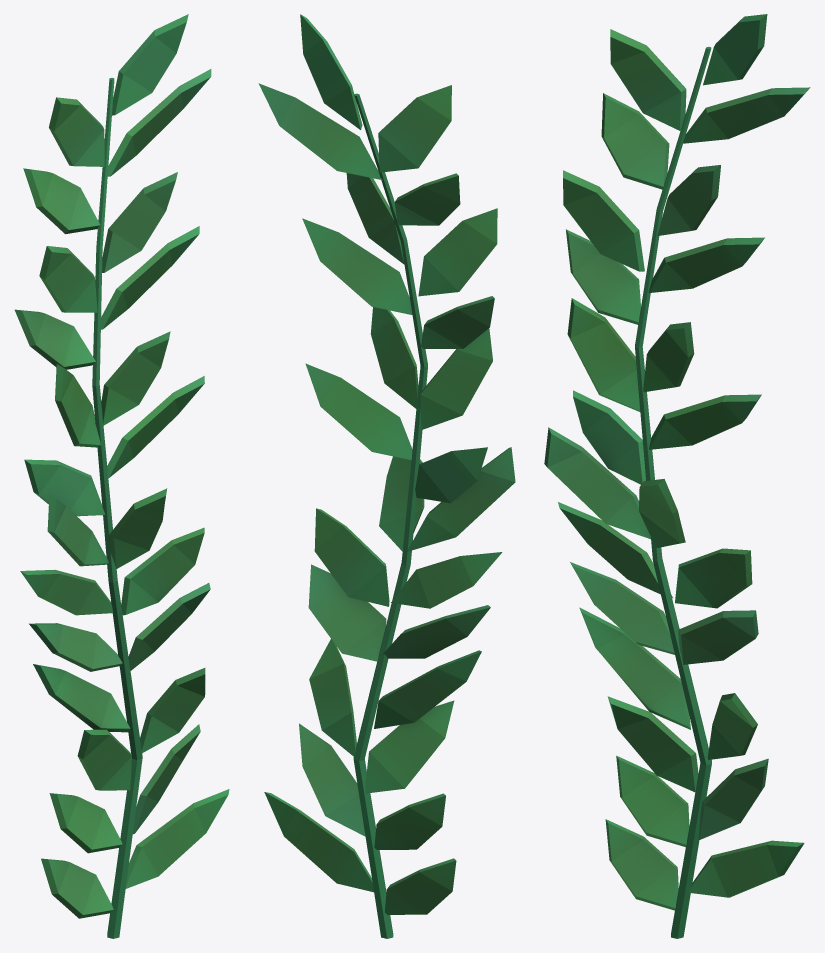
File: Kelp.glb
The picture shows the model from 3 angles, left to right: view 1: azimuth 30°, elevation 25°; view 2: azimuth 150°, elevation 25°; view 3: azimuth 330°, elevation 25°; orthographic projection. The views are drawn at different scales.
Parts seen in each view (by area): view 1: Kelp; view 2: Kelp; view 3: Kelp.
Part boxes in pixels (left/top/right/bottom): Kelp: left=14, top=14, right=229, bottom=938; Kelp: left=258, top=14, right=515, bottom=938; Kelp: left=544, top=14, right=810, bottom=938.
Bounding box in the file's own units: 1.21 × 4.67 × 0.5192.
1 material, 1 textured.
